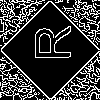R: (25, 25, 71, 61)
